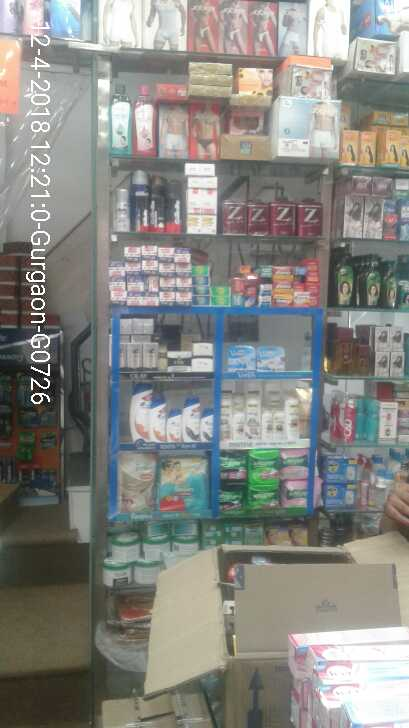gillete: (166, 182, 181, 232), (152, 183, 166, 232), (131, 170, 140, 231), (141, 198, 150, 235)
venus: (227, 344, 256, 370), (256, 346, 286, 370)
